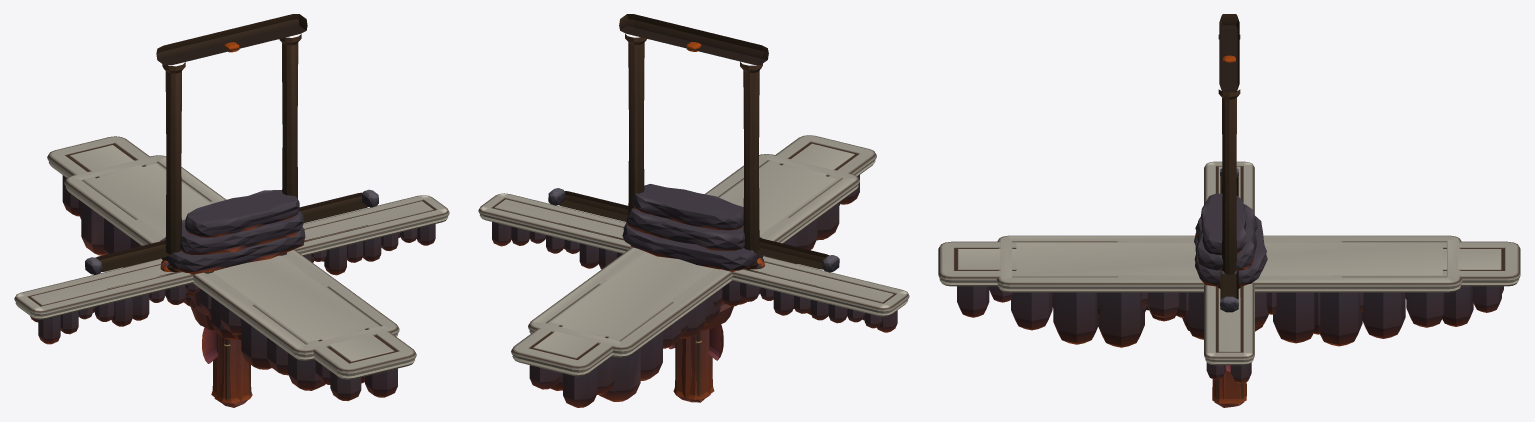
The model's file is volcano-3-DuLH5HpI.glb.
3 renders of one model, left to right at view 1: azimuth 30°, elevation 25°; view 2: azimuth 150°, elevation 25°; view 3: azimuth 270°, elevation 25°, orthographic. The views are drawn at different scales.
Parts seen in each view (by area): view 1: block_8x2x32#0, block_32x2x3.5_grate#0, block_6x2x40#0, pressFrame_7x6x3x7#0, spout_7x2#0, mount_10.6#0, support_1_ledge_square#0, block_7x2x16_ice#0, support_1_round#0, truss_10#0, blade_3x8x1#0, disc_7x1.5_ice#0; view 2: block_8x2x32#0, block_32x2x3.5_grate#0, block_6x2x40#0, pressFrame_7x6x3x7#0, spout_7x2#0, mount_10.6#0, support_1_ledge_square#0, block_7x2x16_ice#0, support_1_round#0, truss_10#0, blade_3x8x1#0; view 3: block_8x2x32#0, block_6x2x40#0, block_32x2x3.5_grate#0, pressFrame_7x6x3x7#0, spout_7x2#0, block_7x2x16_ice#0, mount_10.6#0, support_1_ledge_square#0.
Boxes of the visible parts, x1,y1,x2,y2 form: block_8x2x32#0: (64, 155, 399, 390); block_32x2x3.5_grate#0: (14, 195, 449, 344); block_6x2x40#0: (47, 136, 416, 400); pressFrame_7x6x3x7#0: (156, 14, 307, 271); spout_7x2#0: (160, 190, 305, 272); mount_10.6#0: (85, 189, 378, 274); support_1_ledge_square#0: (211, 333, 252, 403); block_7x2x16_ice#0: (136, 201, 328, 339); support_1_round#0: (217, 334, 244, 400); truss_10#0: (213, 338, 250, 407); blade_3x8x1#0: (202, 327, 218, 363); disc_7x1.5_ice#0: (189, 291, 215, 331); block_8x2x32#0: (528, 154, 859, 401); block_32x2x3.5_grate#0: (478, 193, 909, 332); block_6x2x40#0: (511, 135, 876, 407); pressFrame_7x6x3x7#0: (619, 14, 768, 269); spout_7x2#0: (622, 184, 763, 270); mount_10.6#0: (548, 188, 839, 272); support_1_ledge_square#0: (673, 330, 714, 399); block_7x2x16_ice#0: (598, 217, 789, 336); support_1_round#0: (681, 329, 710, 397); truss_10#0: (675, 331, 712, 402); blade_3x8x1#0: (668, 324, 723, 360); block_8x2x32#0: (996, 235, 1462, 347); block_6x2x40#0: (938, 241, 1520, 326); block_32x2x3.5_grate#0: (1204, 161, 1254, 383); pressFrame_7x6x3x7#0: (1218, 14, 1240, 288); spout_7x2#0: (1194, 193, 1267, 286); block_7x2x16_ice#0: (1116, 241, 1342, 334); mount_10.6#0: (1220, 168, 1238, 312); support_1_ledge_square#0: (1212, 369, 1246, 403).
Size of the model in its own units: 32 by 27.15 by 40.
